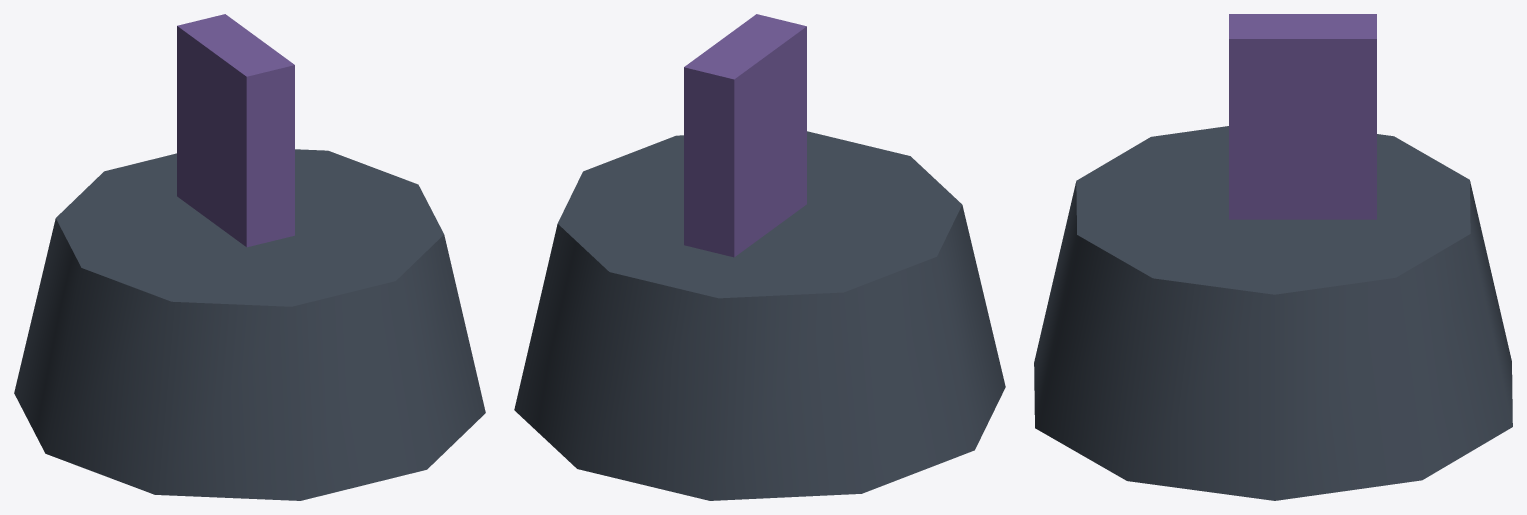
The model's file is head.glb.
The picture shows the model from 3 angles, left to right: view 1: azimuth 30°, elevation 25°; view 2: azimuth 150°, elevation 25°; view 3: azimuth 270°, elevation 25°; orthographic projection. The views are drawn at different scales.
Visible parts, largest first — view 1: helmet, crest; view 2: helmet, crest; view 3: helmet, crest.
Boxes of the visible parts, x1=… form: helmet: x1=14, y1=149, x2=485, y2=500; crest: x1=177, y1=14, x2=294, y2=247; helmet: x1=514, y1=131, x2=1005, y2=500; crest: x1=684, y1=14, x2=806, y2=257; helmet: x1=1034, y1=126, x2=1512, y2=500; crest: x1=1229, y1=14, x2=1376, y2=219.
Size of the model in its own units: 0.68 by 0.55 by 0.6479.
